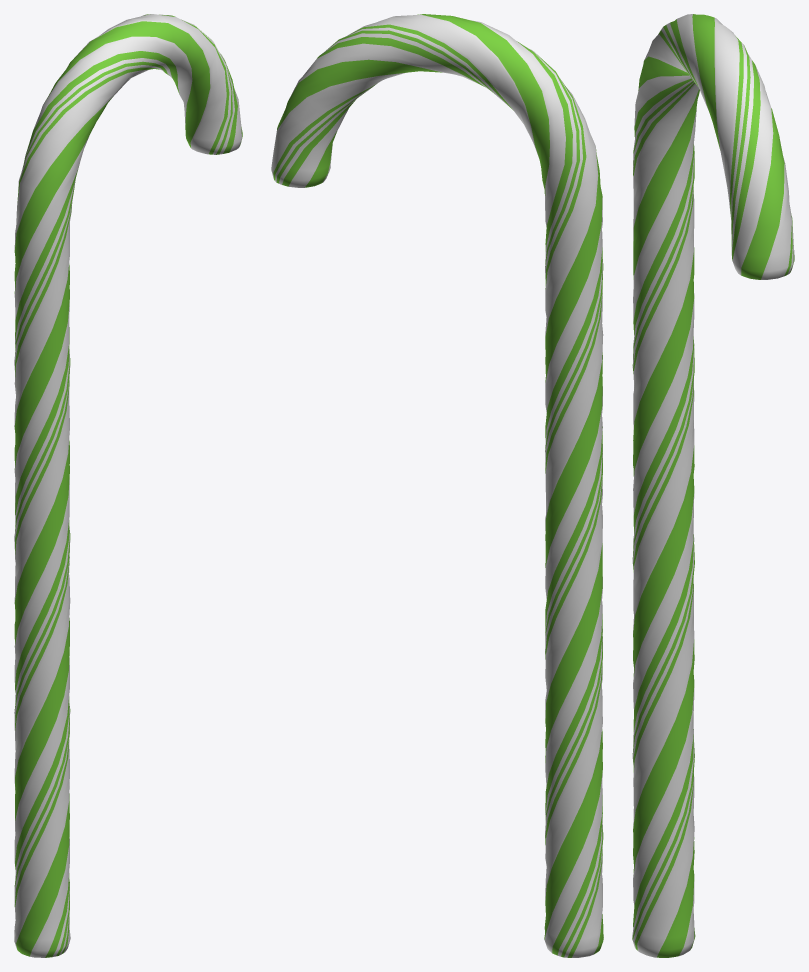
The model's file is Polkagris_2.glb.
The picture shows the model from 3 angles, left to right: view 1: azimuth 30°, elevation 25°; view 2: azimuth 150°, elevation 25°; view 3: azimuth 270°, elevation 25°; orthographic projection. The views are drawn at different scales.
Parts seen in each view (by area): view 1: Polkagrisar.002; view 2: Polkagrisar.002; view 3: Polkagrisar.002.
Part boxes in pixels (box(x1,y1,x2,y2)): Polkagrisar.002: box(14, 14, 242, 957); Polkagrisar.002: box(271, 14, 603, 957); Polkagrisar.002: box(632, 14, 794, 957).
Bounding box in the file's own units: 0.7842 × 2.48 × 0.3738.
